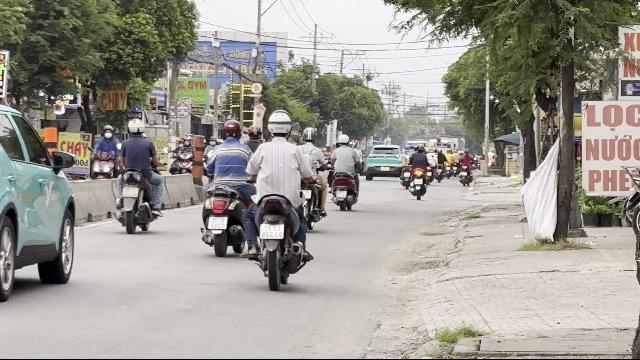helmet: (266, 109, 292, 138), (220, 118, 242, 140), (127, 118, 145, 136)
licenseplate: (260, 225, 284, 239), (208, 216, 228, 230), (122, 187, 138, 197)
motorcyclist: (248, 109, 316, 287), (197, 118, 257, 256), (112, 115, 166, 233), (624, 103, 640, 360)
